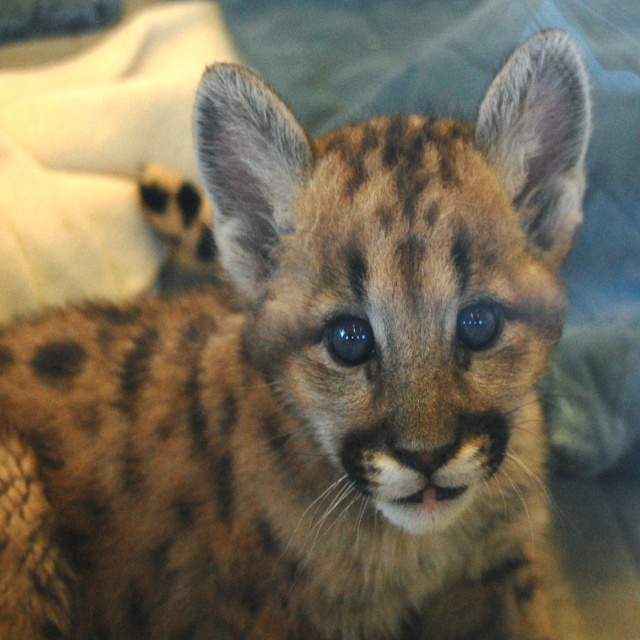Leopard: (0, 22, 596, 640)
